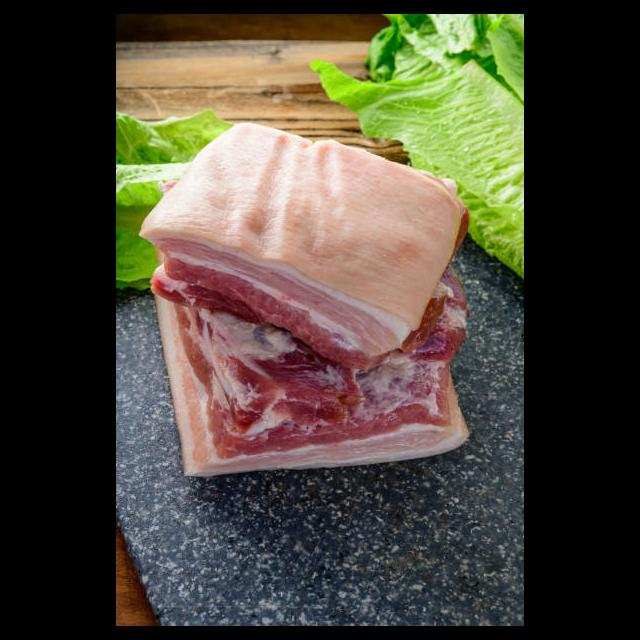pork: (150, 124, 450, 342), (162, 325, 474, 470)
